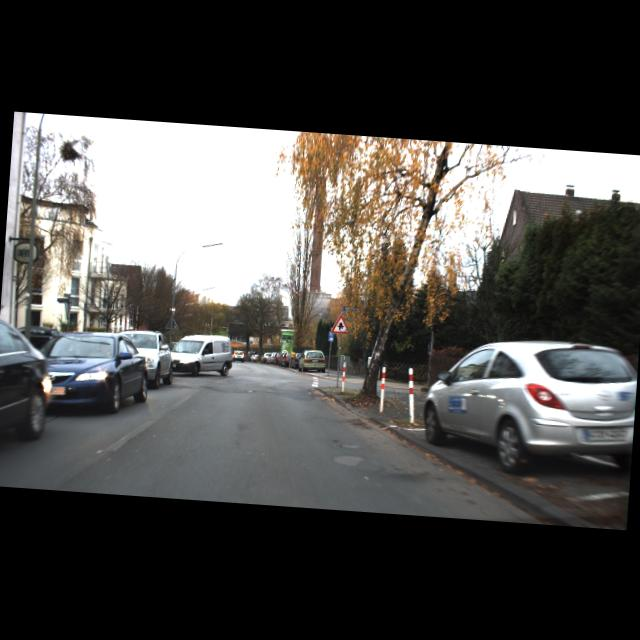danger: (330, 312, 352, 333)
